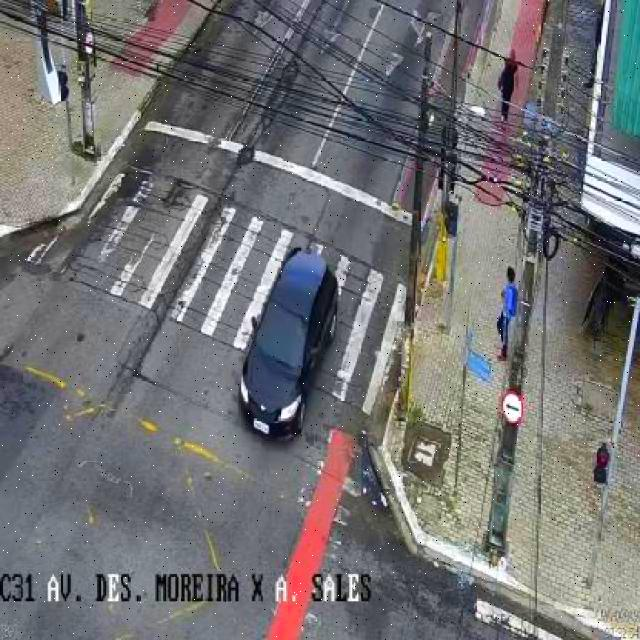car: (238, 246, 337, 440)
motorbike: (495, 266, 519, 362), (498, 49, 518, 123)
